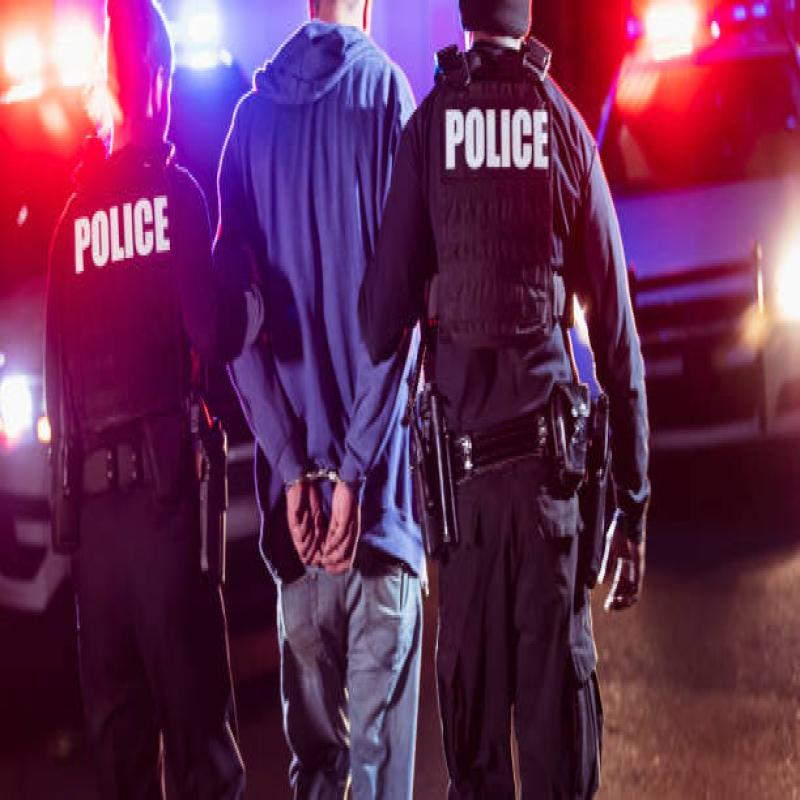AmbulanceSiren: (611, 0, 780, 91)
